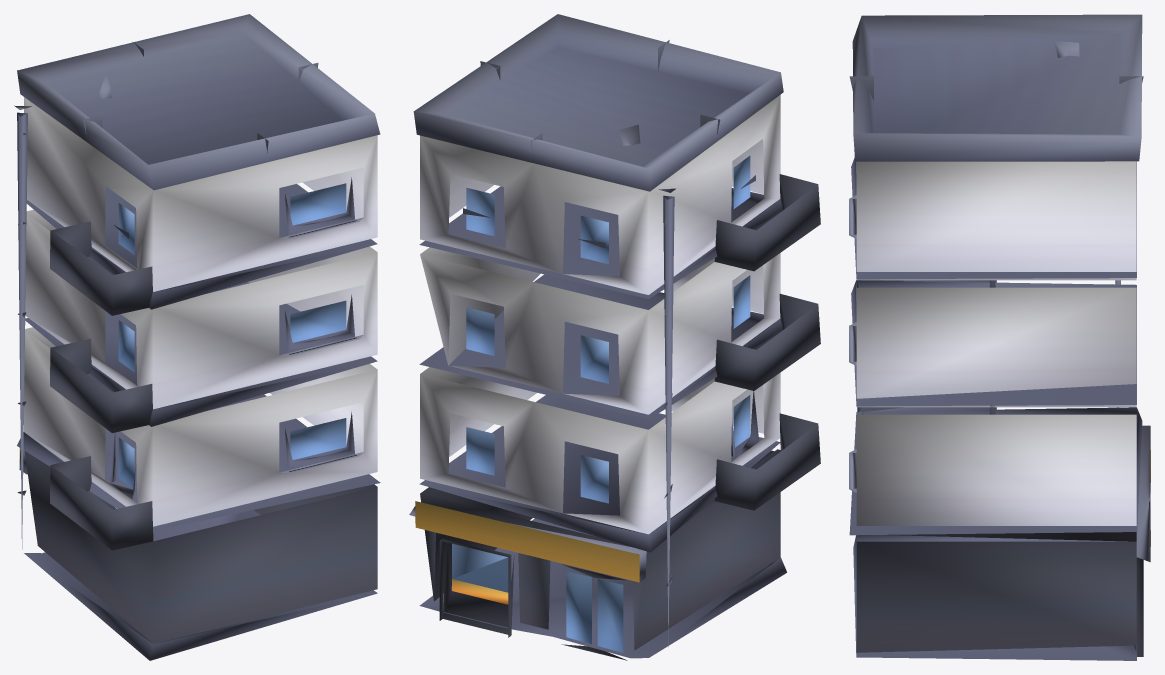
File: tower-g-low.glb
3 renders of one model, left to right at view 1: azimuth 30°, elevation 25°; view 2: azimuth 150°, elevation 25°; view 3: azimuth 270°, elevation 25°, orthographic. The views are drawn at different scales.
Visible parts, largest first — view 1: building-g baked; view 2: building-g baked; view 3: building-g baked.
Boxes of the visible parts, x1,y1,x2,y2 form: building-g baked: (14,14,380,660); building-g baked: (409,14,820,660); building-g baked: (849,14,1150,660).
Bounding box in the file's own units: 15.97 × 28 × 14.27.
Materials: 1 (1 with a texture image).
